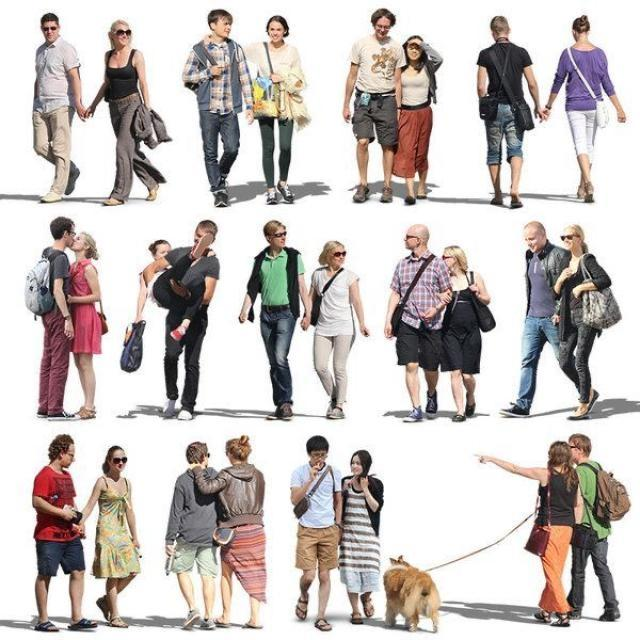person: (476, 440, 582, 628), (498, 220, 597, 418), (540, 13, 626, 202), (84, 19, 169, 205), (180, 8, 254, 207), (238, 220, 310, 420), (193, 434, 266, 628), (382, 222, 452, 422), (476, 15, 548, 208), (150, 220, 219, 420), (31, 433, 97, 632), (240, 15, 307, 205), (73, 444, 142, 628), (300, 240, 370, 419), (550, 224, 612, 419), (342, 8, 404, 202), (164, 442, 221, 630), (565, 433, 622, 621), (32, 11, 88, 202), (288, 436, 342, 632), (437, 246, 493, 422), (35, 216, 77, 420), (392, 34, 442, 205), (337, 449, 383, 624), (65, 232, 105, 419)
